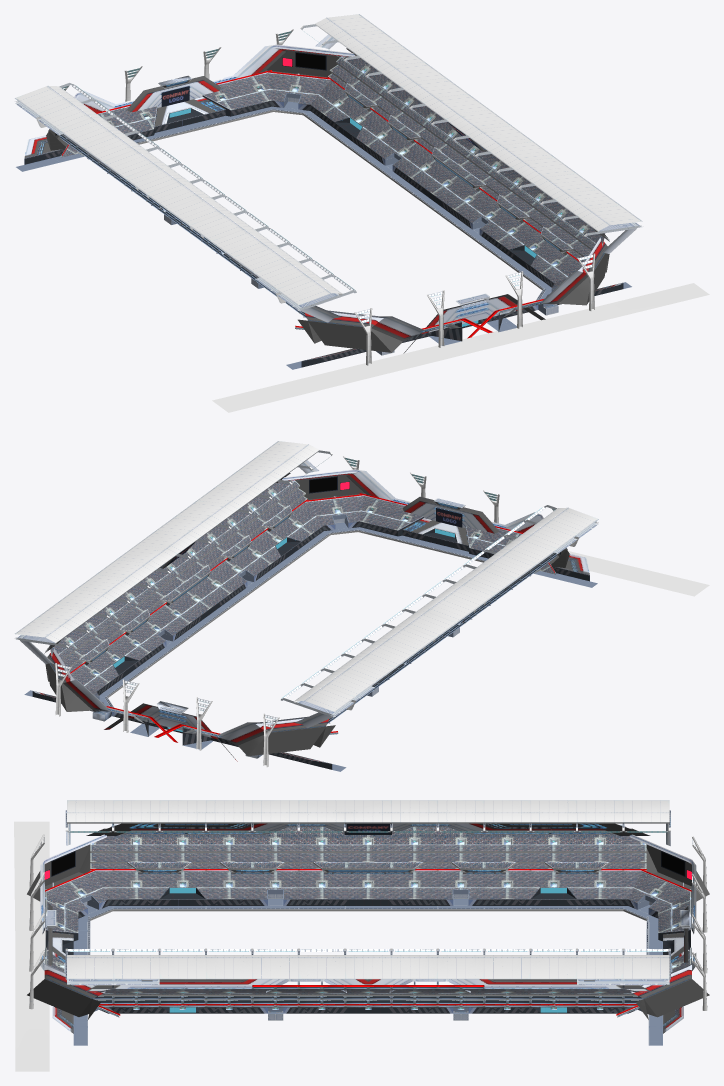
File: Stadium.fbx
The picture shows the model from 3 angles, top to bottom: view 1: azimuth 30°, elevation 25°; view 2: azimuth 150°, elevation 25°; view 3: azimuth 270°, elevation 25°; orthographic projection. The views are drawn at different scales.
Visible parts, largest first — view 1: stadium_west, stadium_east, stadium, Stadium2; view 2: stadium_west, stadium_east, stadium, Stadium2; view 3: stadium_east, stadium_west, stadium, Stadium2, field_lights, field_lights_1.
Boxes of the visible parts, left/top/right/bottom form: stadium_west: left=140, top=14, right=642, bottom=338; stadium_east: left=15, top=83, right=492, bottom=352; stadium: left=212, top=253, right=709, bottom=412; Stadium2: left=16, top=29, right=299, bottom=171; stadium_west: left=15, top=441, right=481, bottom=742; stadium_east: left=154, top=505, right=598, bottom=756; stadium: left=334, top=456, right=709, bottom=596; Stadium2: left=24, top=663, right=346, bottom=771; stadium_east: left=27, top=800, right=709, bottom=949; stadium_west: left=27, top=929, right=709, bottom=1020; stadium: left=14, top=821, right=89, bottom=1071; Stadium2: left=646, top=836, right=707, bottom=1045; field_lights: left=68, top=831, right=667, bottom=832; field_lights_1: left=70, top=951, right=666, bottom=951.
Size of the model in its own units: 163367 by 24496 by 192103.
Materials: 8 (6 with a texture image).
